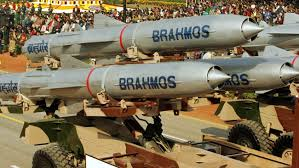ten_lua: (21, 16, 265, 54), (4, 65, 228, 102)
